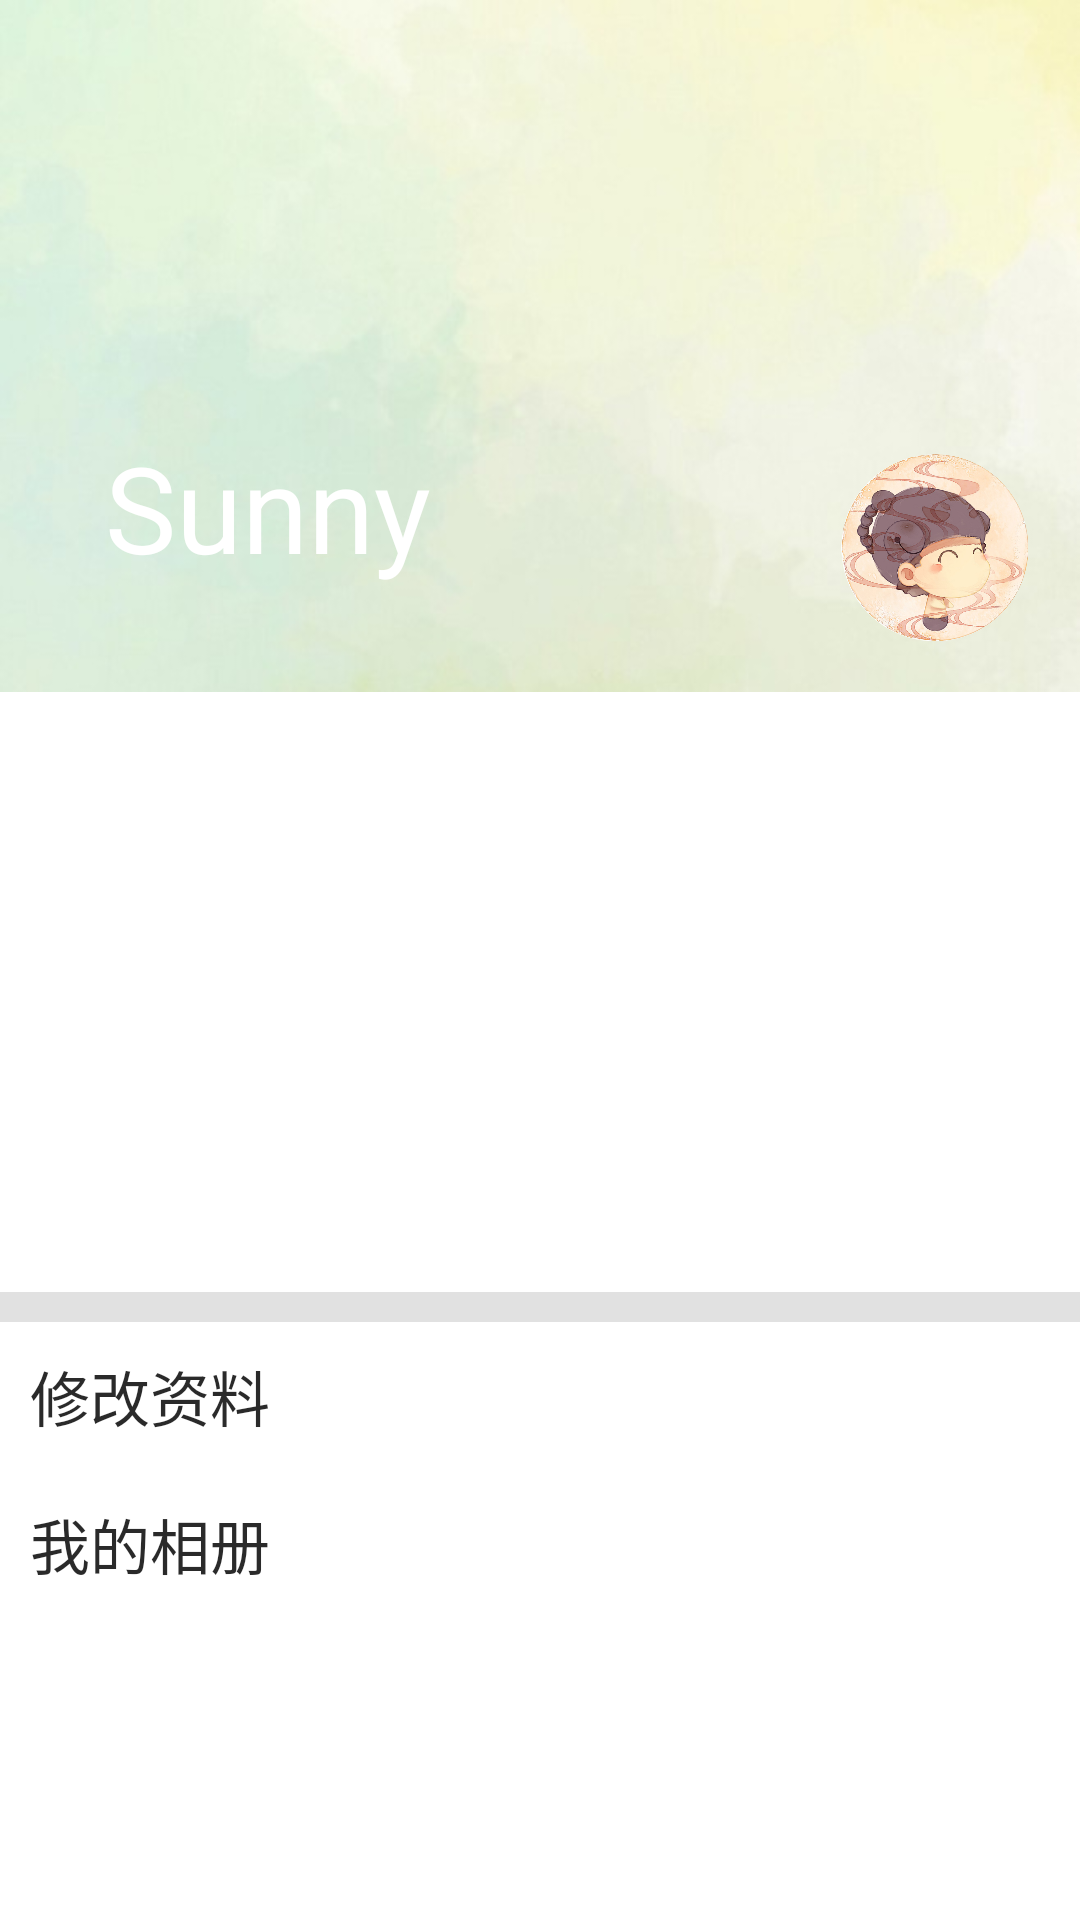

Icon bounding boxes for this 1080px x 1920px phone screenshot, format (x1, y1, x2, y2):
touxiang: (835, 447, 1035, 641)
